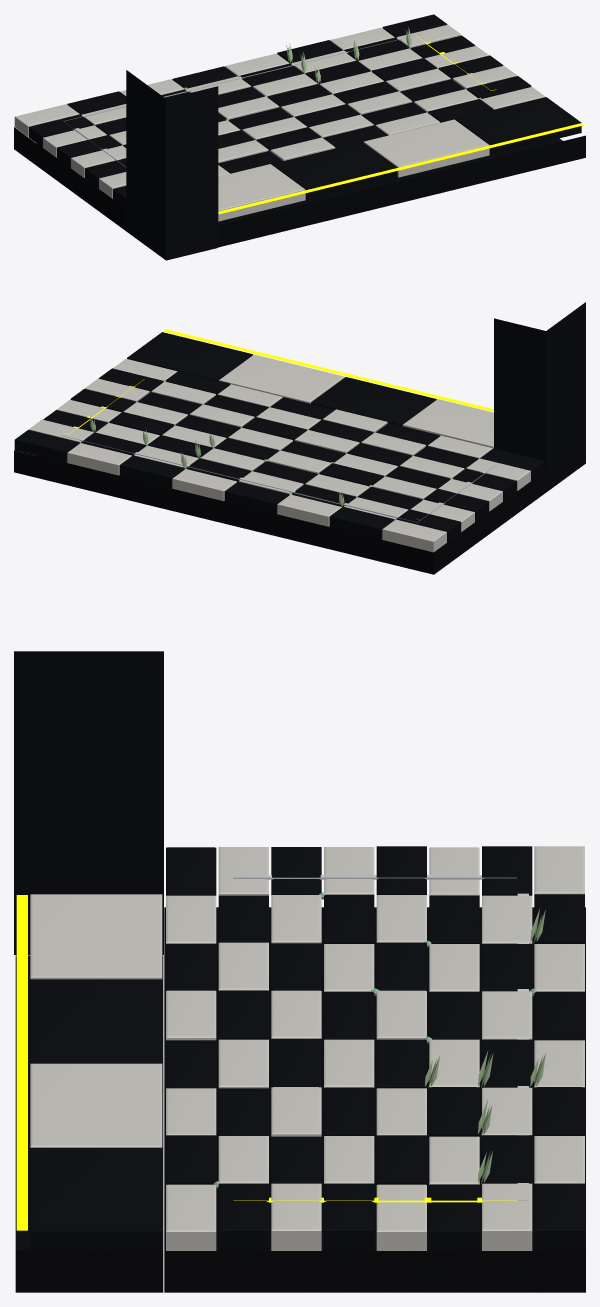
File: tt_terrace_edge_open_w38.glb
3 views of the same model, one above another, from view 1: azimuth 30°, elevation 25°; view 2: azimuth 150°, elevation 25°; view 3: azimuth 270°, elevation 25° (orthographic). The views are drawn at different scales.
Visible parts, largest first — view 1: Pavers_B, Pavers_A, Kerb_Pier, Threshold_Slab, Pavers_B_T, Pavers_A_T, Deck_Slab, Threshold_Amber, Court_Strips_White, Joint_Tufts; view 2: Pavers_B, Pavers_A, Kerb_Pier, Deck_Slab, Pavers_B_T, Pavers_A_T, Threshold_Amber, Court_Strips_White, Joint_Tufts; view 3: Pavers_B, Pavers_A, Kerb_Pier, Deck_Slab, Pavers_B_T, Pavers_A_T, Threshold_Slab, Threshold_Amber, Joint_Tufts, Court_Strips_White.
Part boxes in pixels (x1,y1,x2,y2): Pavers_B: (29, 14, 531, 208); Pavers_A: (14, 24, 545, 198); Kerb_Pier: (126, 70, 218, 260); Threshold_Slab: (218, 135, 585, 247); Pavers_B_T: (271, 97, 581, 199); Pavers_A_T: (218, 119, 489, 221); Deck_Slab: (14, 127, 126, 230); Threshold_Amber: (218, 123, 584, 214); Court_Strips_White: (61, 34, 420, 167); Joint_Tufts: (286, 27, 411, 83); Pavers_B: (14, 368, 544, 541); Pavers_A: (28, 359, 530, 552); Kerb_Pier: (494, 302, 585, 492); Deck_Slab: (14, 450, 545, 574); Pavers_B_T: (127, 332, 436, 425); Pavers_A_T: (219, 354, 493, 448); Threshold_Amber: (163, 329, 493, 411); Court_Strips_White: (61, 435, 496, 522); Joint_Tufts: (90, 416, 344, 506); Pavers_B: (166, 846, 584, 1250); Pavers_A: (166, 846, 584, 1250); Kerb_Pier: (14, 651, 163, 954); Deck_Slab: (164, 907, 585, 1292); Pavers_B_T: (30, 979, 162, 1250); Pavers_A_T: (30, 894, 162, 1147); Threshold_Slab: (15, 955, 163, 1292); Threshold_Amber: (16, 895, 27, 1230); Joint_Tufts: (425, 908, 545, 1184); Court_Strips_White: (233, 875, 528, 1200).
Size of what is drawn, in the model's own units: 4 by 1.47 by 2.51.
Materials: 7 (3 with a texture image).
